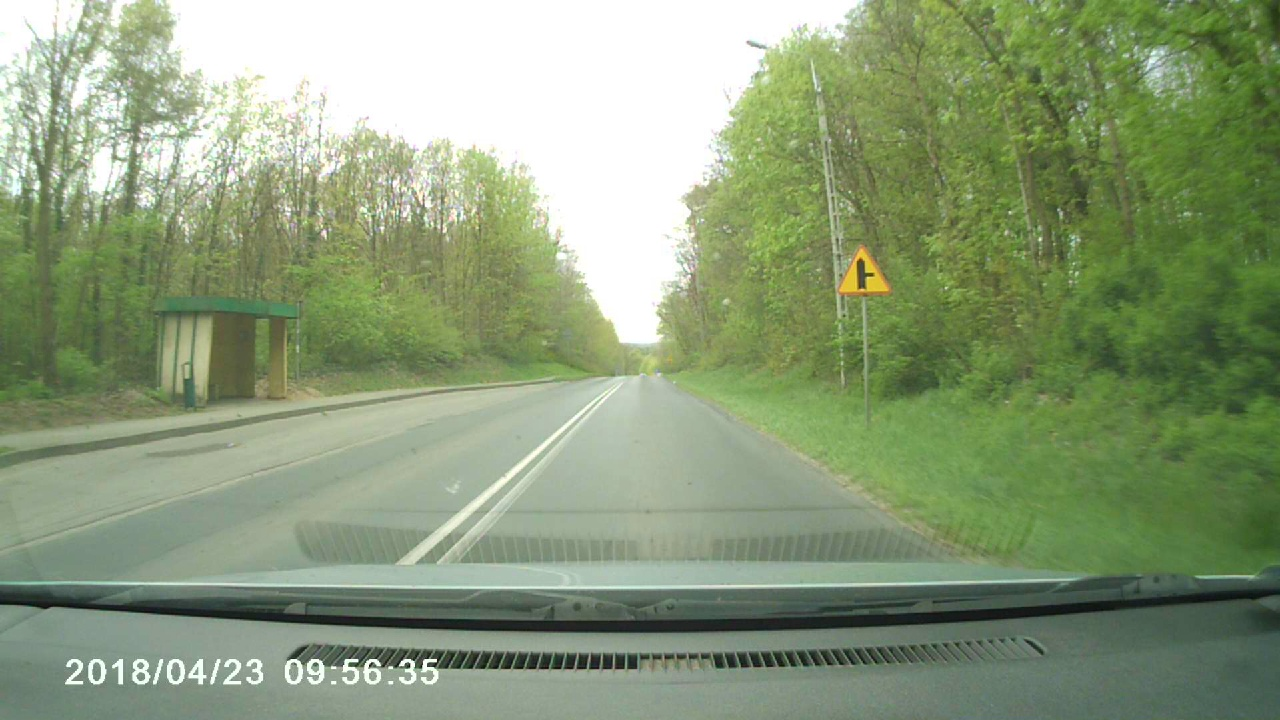A6b: (838, 245, 893, 297)
